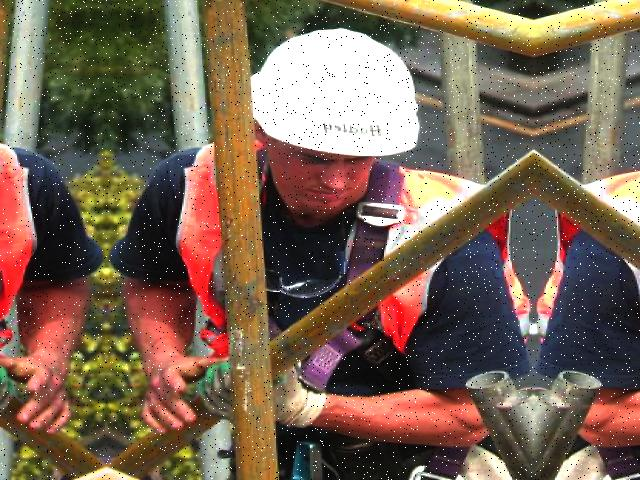Helmet: (243, 21, 430, 166)
